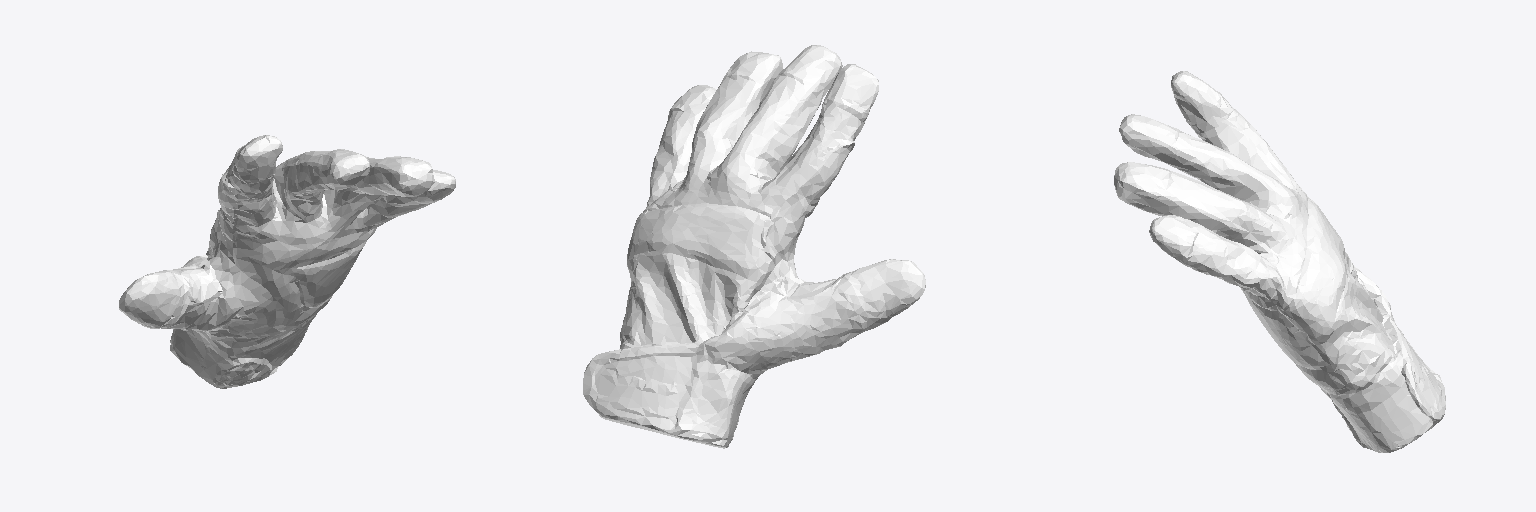
File: LDI_ArtecEVA_Glove_color_in.obj
The picture shows the model from 3 angles: view 1: azimuth 30°, elevation 25°; view 2: azimuth 150°, elevation 25°; view 3: azimuth 270°, elevation 25°; orthographic projection.
Size of the model in its own units: 6.94 by 7.44 by 6.83.